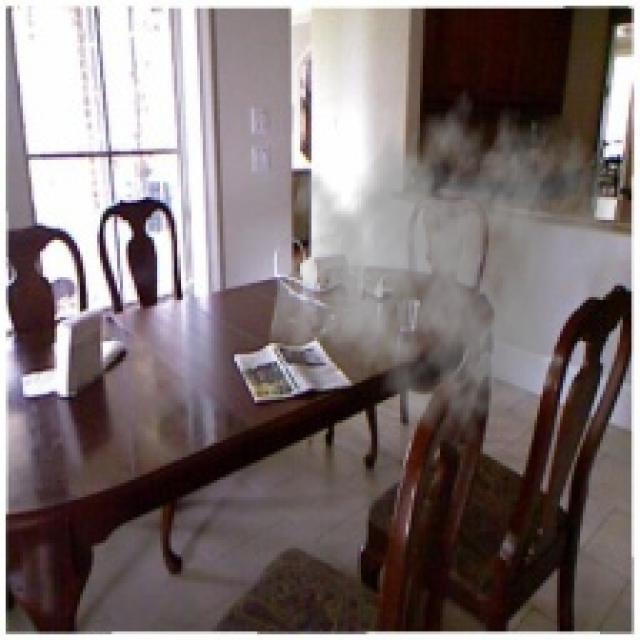smoke: (266, 71, 623, 448)
